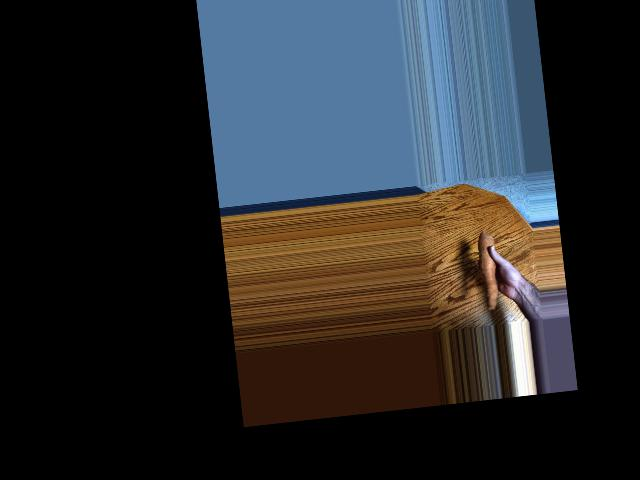sweet_potato: (474, 233, 504, 311)
